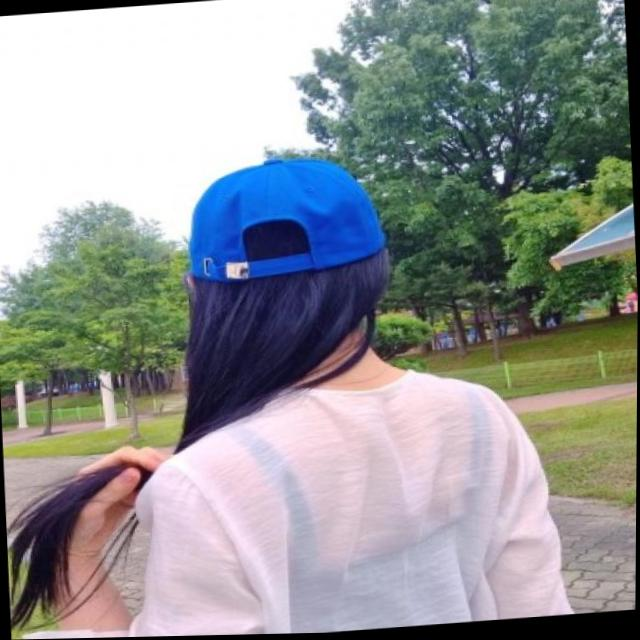no helmet: (149, 139, 438, 382)
